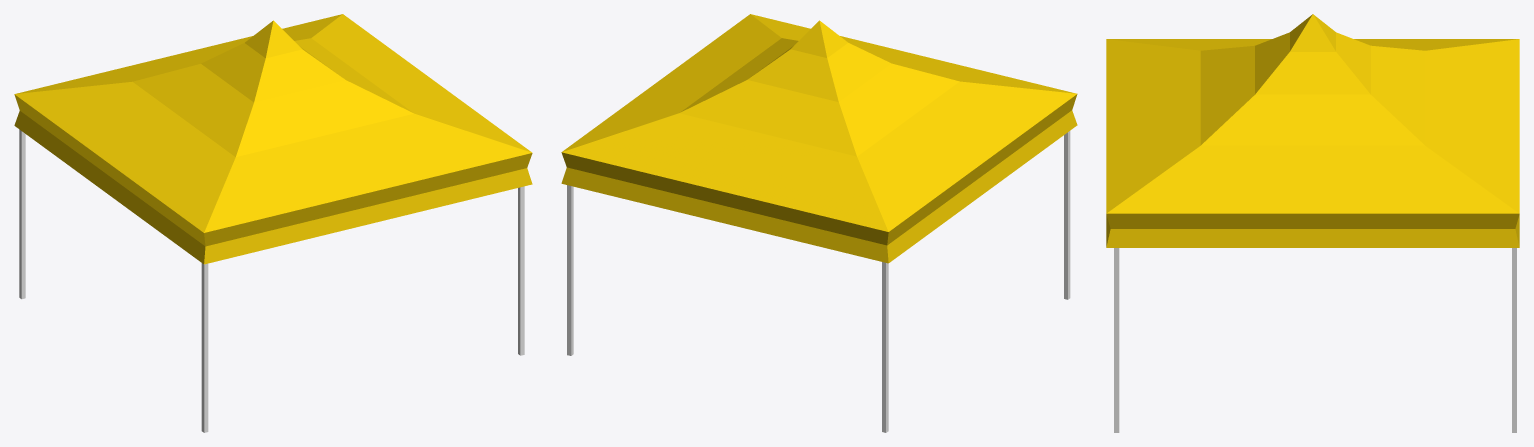
The model's file is Tent.fbx.
The picture shows the model from 3 angles, left to right: view 1: azimuth 30°, elevation 25°; view 2: azimuth 150°, elevation 25°; view 3: azimuth 270°, elevation 25°; orthographic projection. The views are drawn at different scales.
Parts seen in each view (by area): view 1: Tent; view 2: Tent; view 3: Tent.
Boxes of the visible parts, bbox=[...] form: Tent: bbox=[14, 14, 532, 432]; Tent: bbox=[561, 14, 1077, 432]; Tent: bbox=[1106, 14, 1519, 432].
Bounding box in the file's own units: 400 × 357 × 400.
